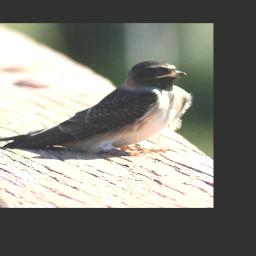Swallow: (0, 60, 194, 158)
